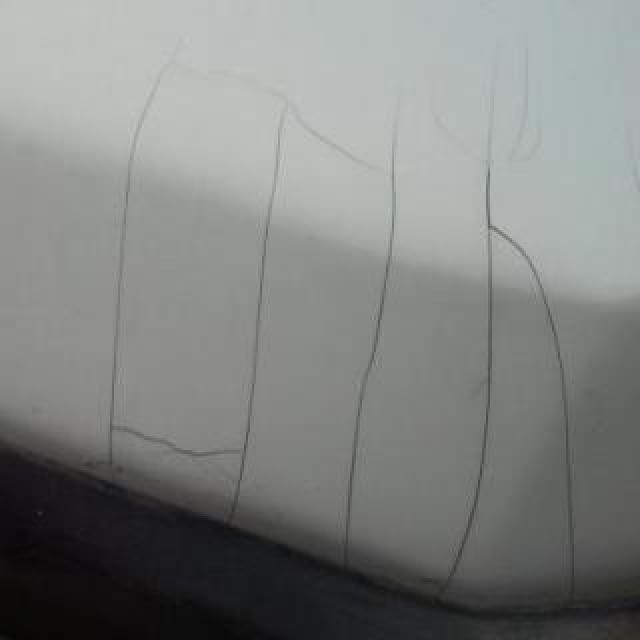crack: (227, 95, 387, 529), (432, 155, 580, 607), (107, 49, 245, 475), (342, 92, 404, 574)
